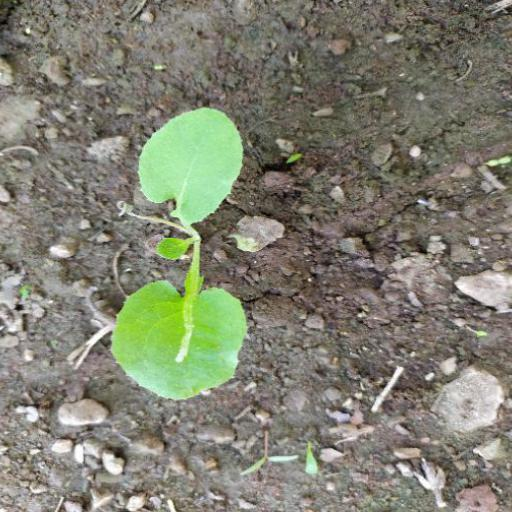weed: (61, 108, 345, 392)
